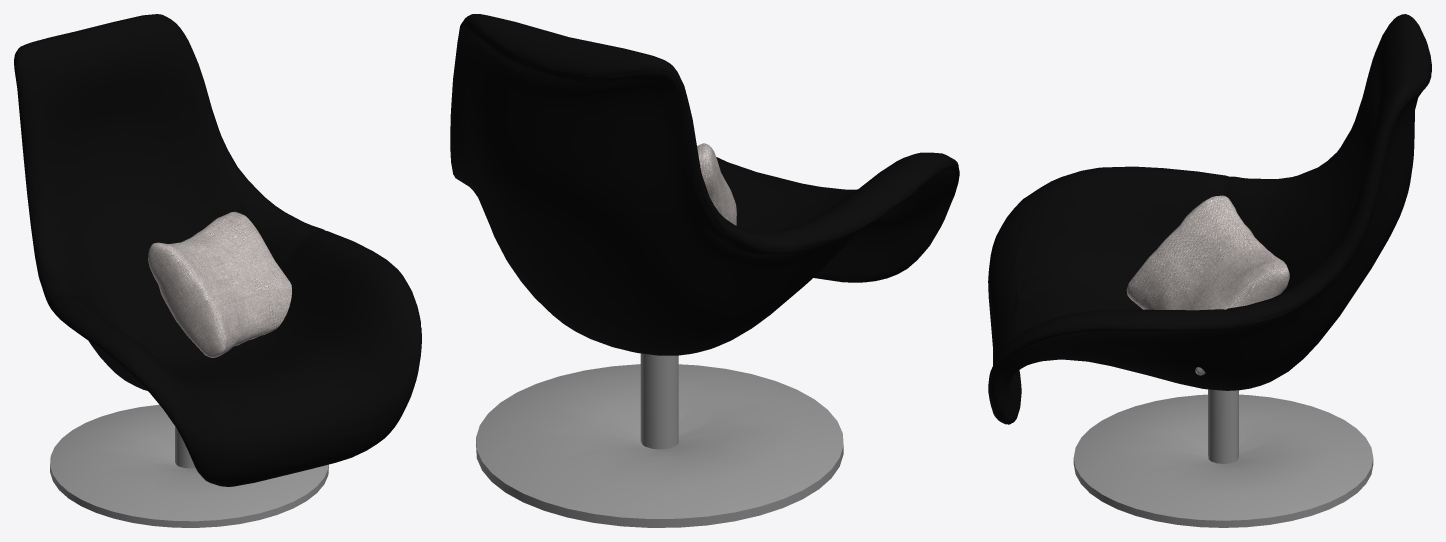
Rendered from Chair.FBX.
3 views of the same model, side by side, from view 1: azimuth 30°, elevation 25°; view 2: azimuth 150°, elevation 25°; view 3: azimuth 270°, elevation 25° (orthographic). The views are drawn at different scales.
Visible parts, largest first — view 1: Chair, Pillow; view 2: Chair, Pillow; view 3: Chair, Pillow.
Boxes of the visible parts, left/top/right/bottom form: Chair: left=14, top=14, right=421, bottom=527; Pillow: left=148, top=211, right=291, bottom=357; Chair: left=450, top=14, right=959, bottom=527; Pillow: left=697, top=143, right=736, bottom=225; Chair: left=988, top=14, right=1431, bottom=527; Pillow: left=1126, top=195, right=1289, bottom=375.
Bounding box in the file's own units: 106 × 127 × 125.
Materials: 3 (1 with a texture image).
